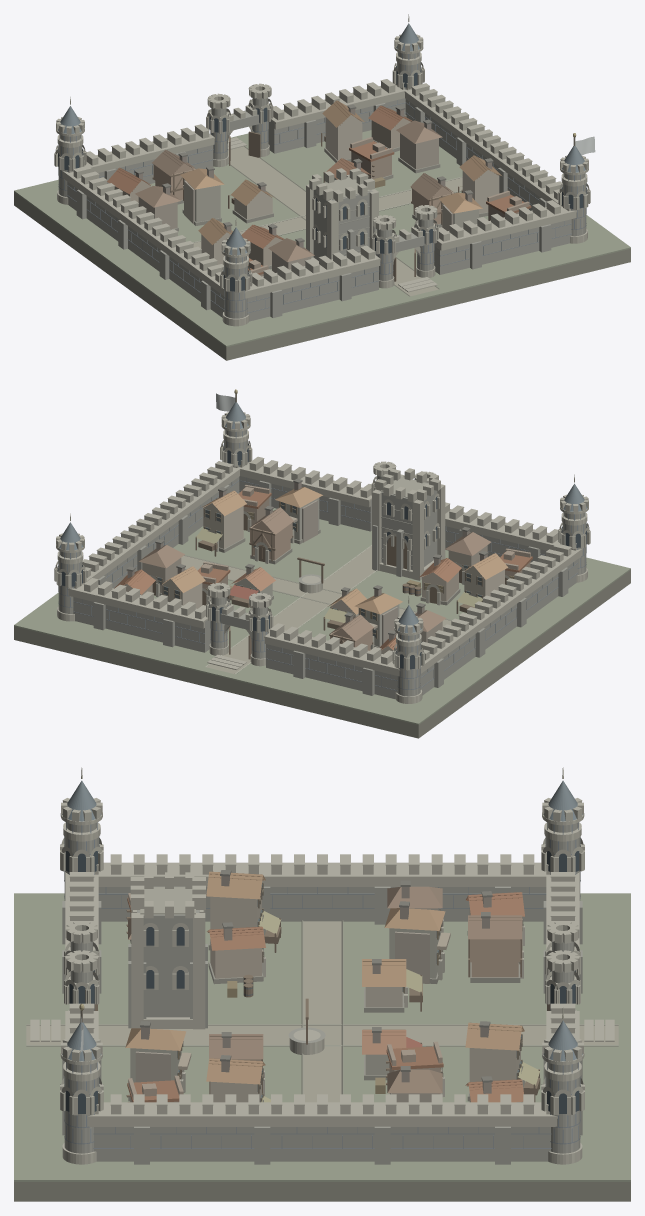
The model's file is city-1.glb.
3 renders of one model, top to bottom at view 1: azimuth 30°, elevation 25°; view 2: azimuth 150°, elevation 25°; view 3: azimuth 270°, elevation 25°, orthographic. The views are drawn at different scales.
Visible parts, largest first — view 1: شهر بازار; view 2: شهر بازار; view 3: شهر بازار.
Boxes of the visible parts, x1,y1,x2,y2 form: شهر بازار: (14, 14, 630, 360); شهر بازار: (14, 389, 630, 738); شهر بازار: (14, 767, 630, 1201).
Size of the model in its own units: 11 by 3.12 by 10.
